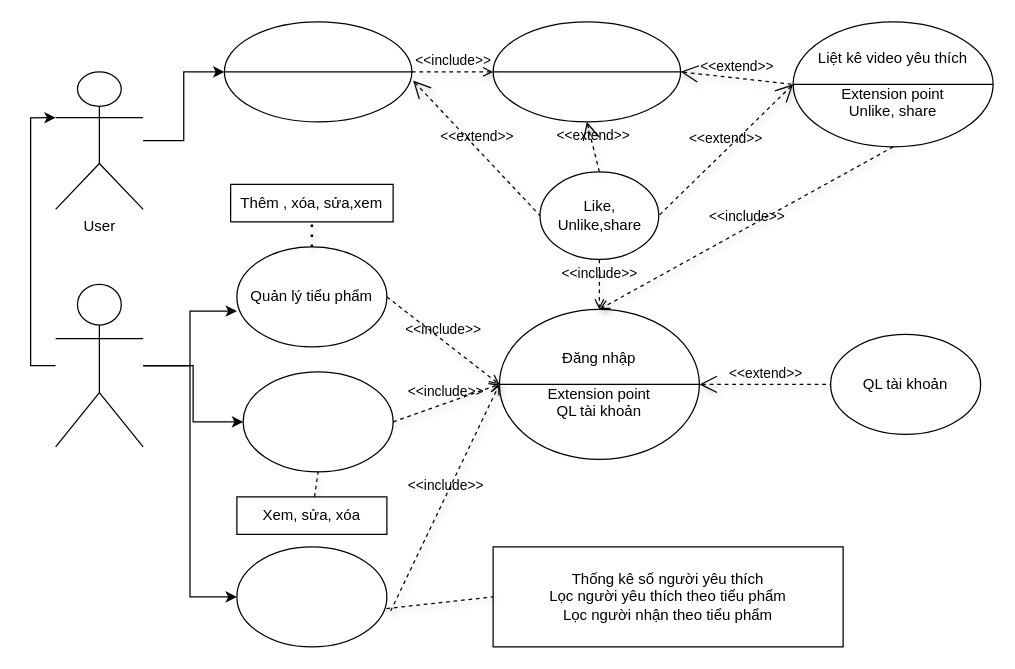
Image size: 1015x669. Some labels were removed from this diagram. The shapes that lost their labels are listed below. From the top down, each one's centre as x and y in pixels, then its label:
point 317,71: Xem chi tiết tiểu phẩm Extension point like, share
point 586,71: Liệt kê video Extension point like, share
point 98,365: Admin
point 317,421: Quản lý khách hàng
point 311,596: Báo cáo thống kê
